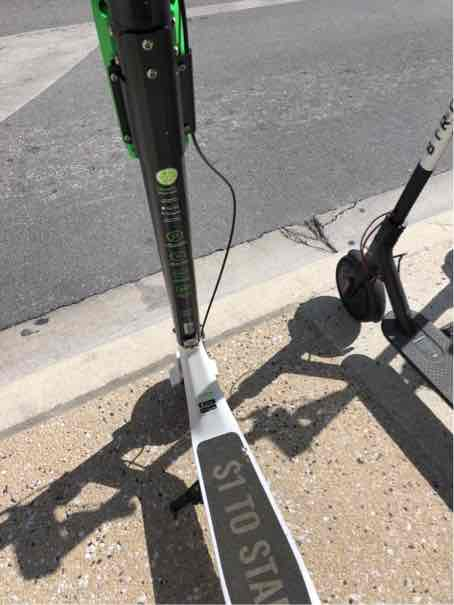scooter: (0, 16, 356, 605)
